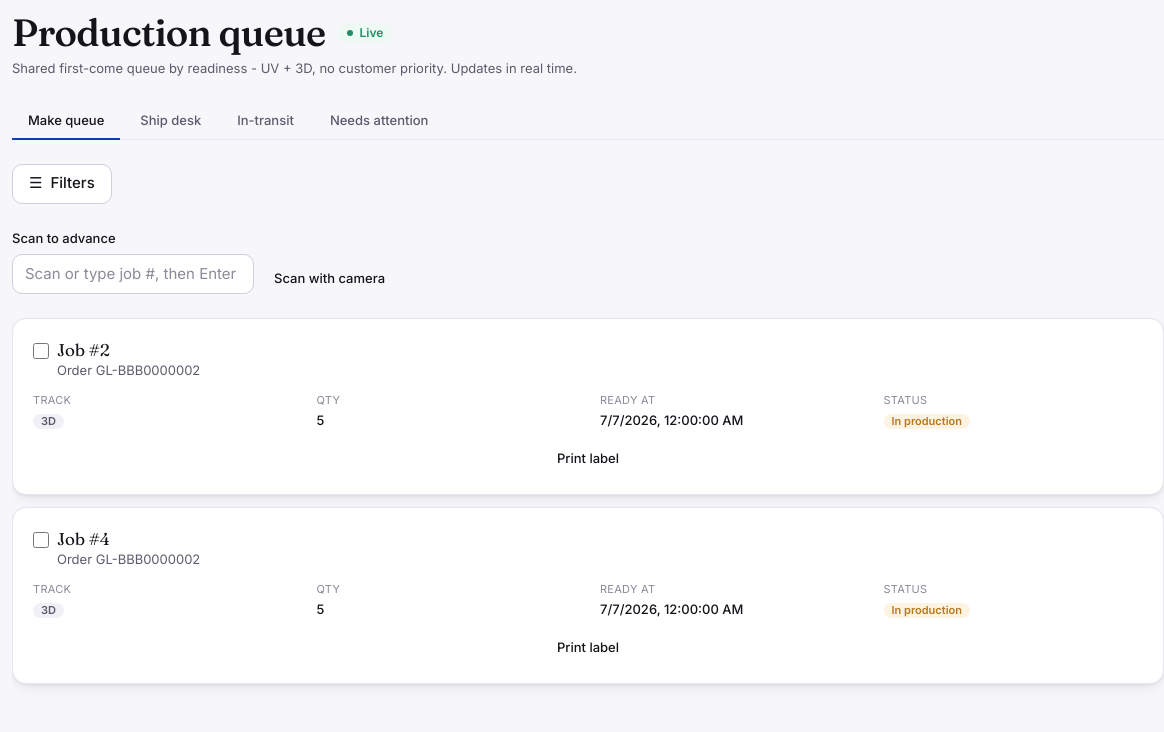
Test: Ship desk shows one card per shipment (dedupes jobs sharing a shipment_id)
The width and height of the screenshot is (1164, 732).
Click the tab "Ship desk" at {"x": 171, "y": 121}, box [124,102,217,140]
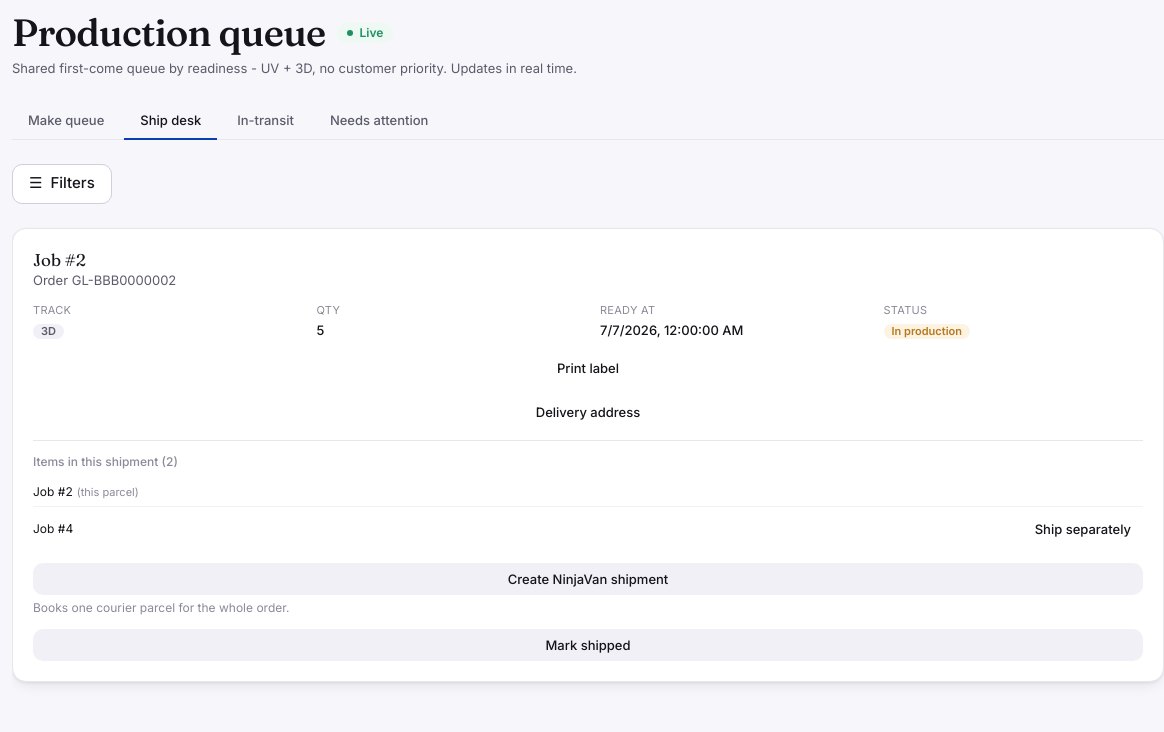
Expected: the number of buttons "Create NinjaVan shipment" is 1, [33,563,1143,595]
